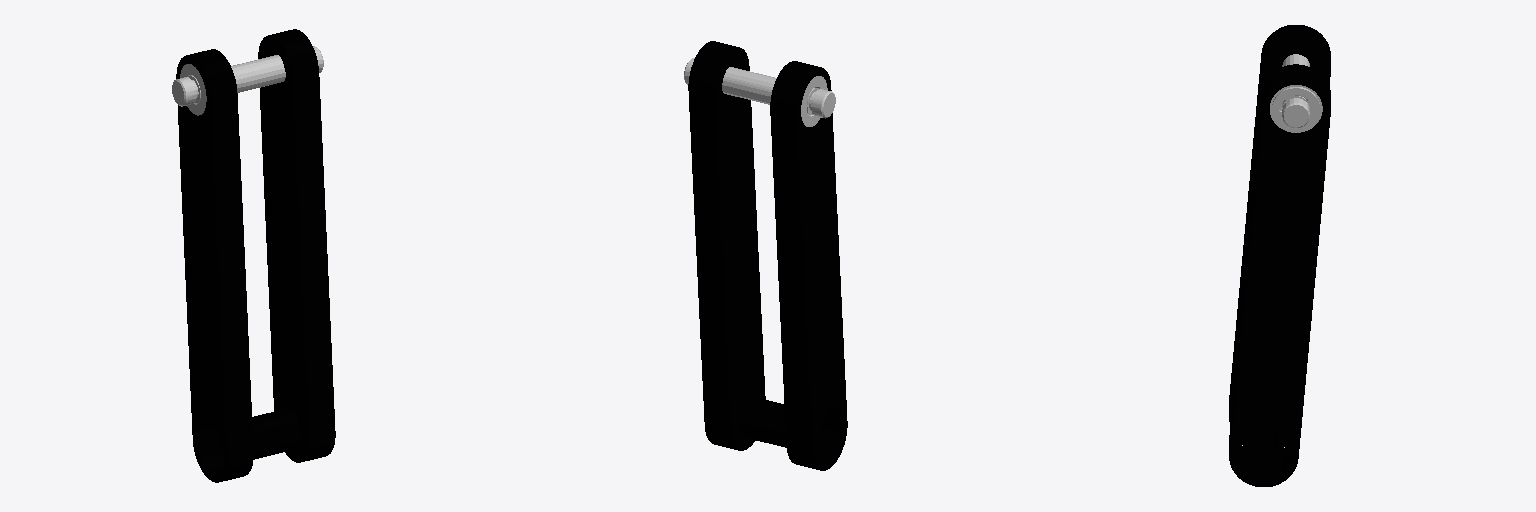
3 views of the same model, side by side, from view 1: azimuth 30°, elevation 25°; view 2: azimuth 150°, elevation 25°; view 3: azimuth 270°, elevation 25° (orthographic).
Parts seen in each view (by area): view 1: Left_2_Link; view 2: Left_2_Link; view 3: Left_2_Link.
Part boxes in pixels (left/top/right/bottom): Left_2_Link: left=172, top=29, right=335, bottom=482; Left_2_Link: left=684, top=41, right=847, bottom=470; Left_2_Link: left=1229, top=25, right=1330, bottom=486.
Bounding box in the file's own units: 0.023 × 0.0648 × 0.0146.